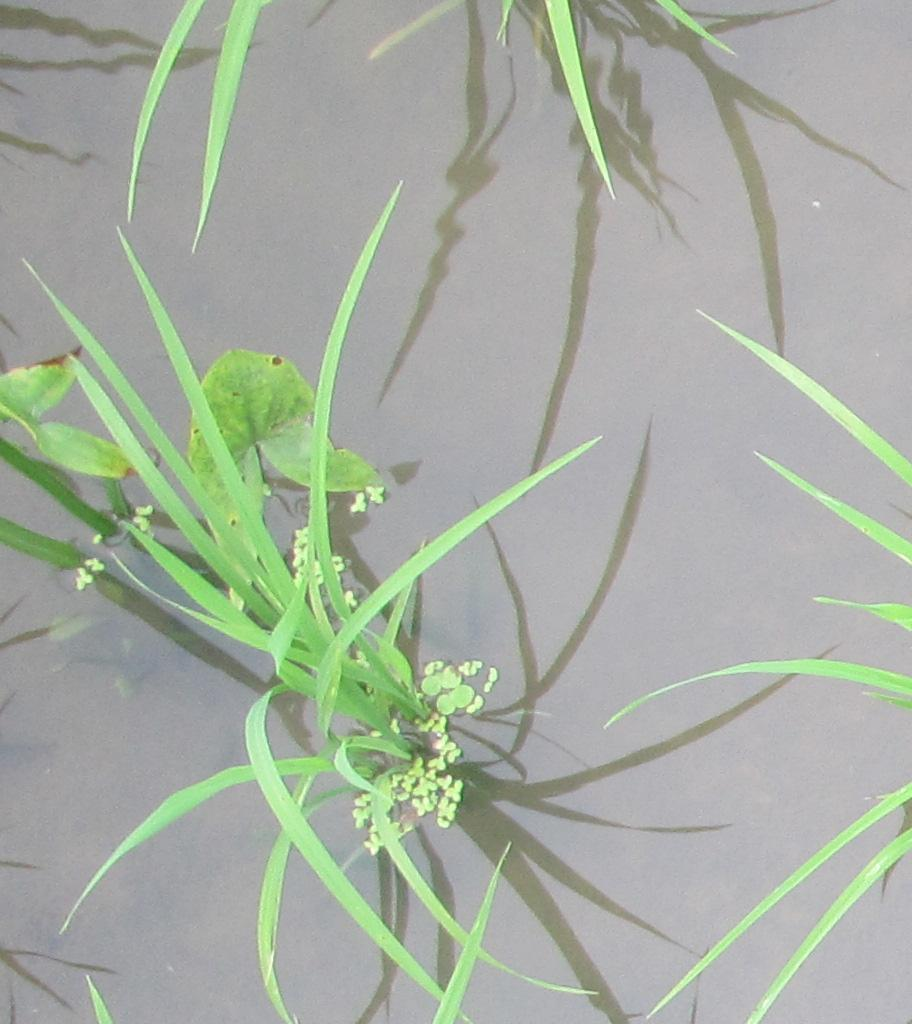Weed: (187, 342, 385, 516), (6, 347, 134, 486)
